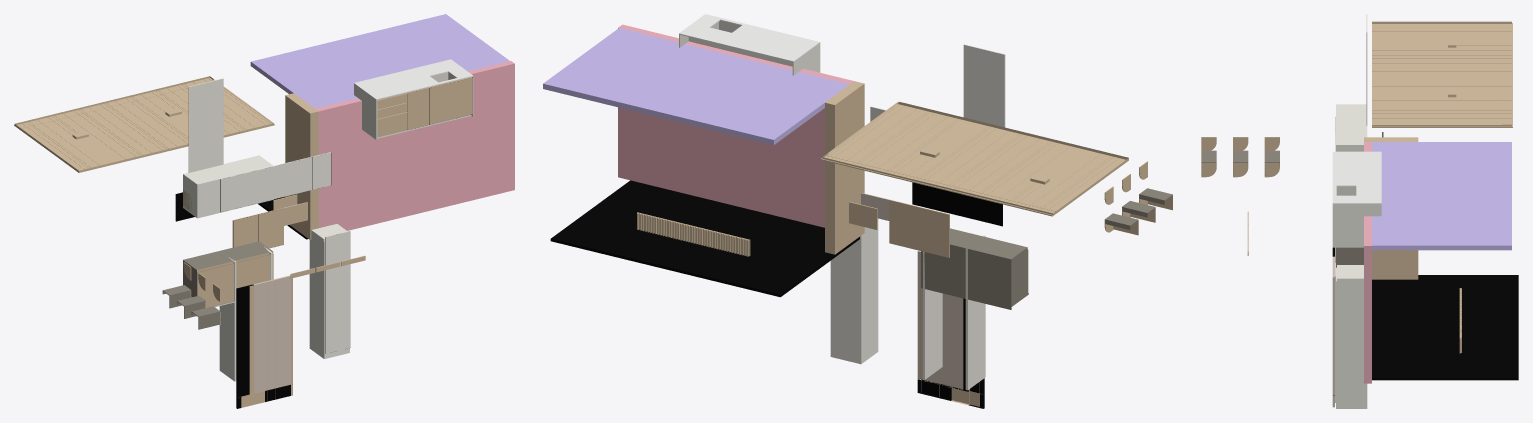
The model's file is dry_kitchen.glb.
3 renders of one model, left to right at view 1: azimuth 30°, elevation 25°; view 2: azimuth 150°, elevation 25°; view 3: azimuth 270°, elevation 25°, orthographic. The views are drawn at different scales.
Parts seen in each view (by area): view 1: imagetostl_mesh; view 2: imagetostl_mesh; view 3: imagetostl_mesh.
Part boxes in pixels (x1=…): imagetostl_mesh: x1=14, y1=14, x2=514, y2=408; imagetostl_mesh: x1=543, y1=14, x2=1172, y2=408; imagetostl_mesh: x1=1201, y1=14, x2=1518, y2=408.
Bounding box in the file's own units: 394 × 278 × 230.
